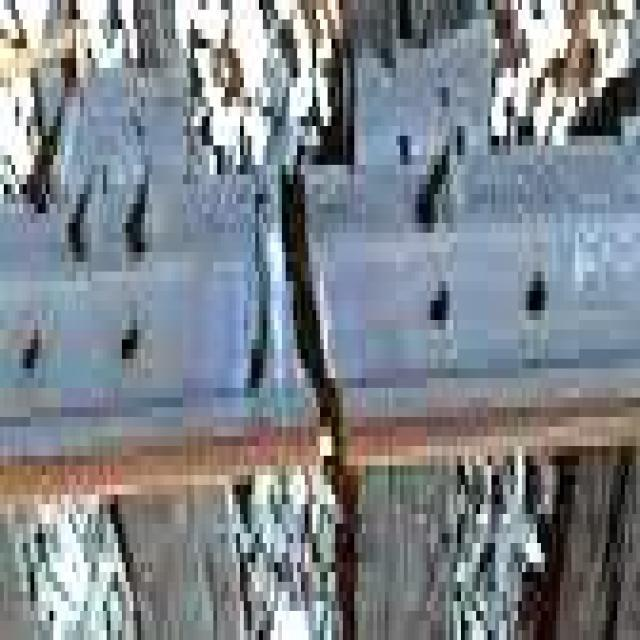broken_rail_high: (270, 162, 360, 461)
